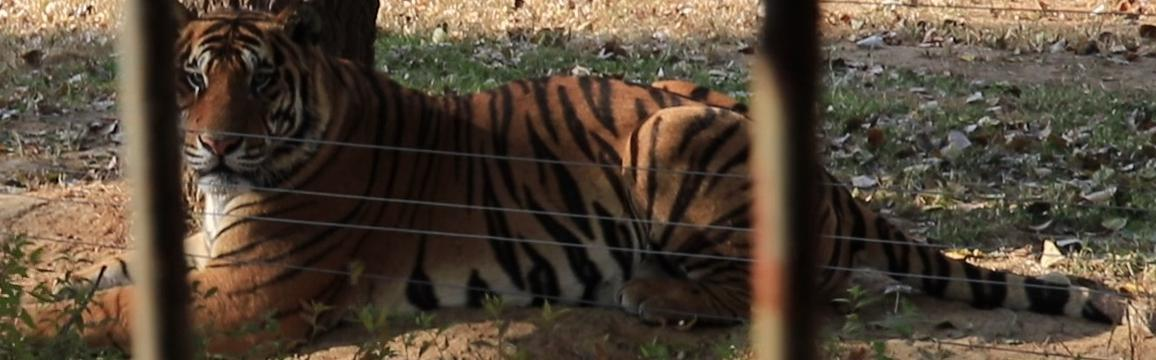tiger: (172, 2, 754, 349), (808, 169, 1009, 306)
